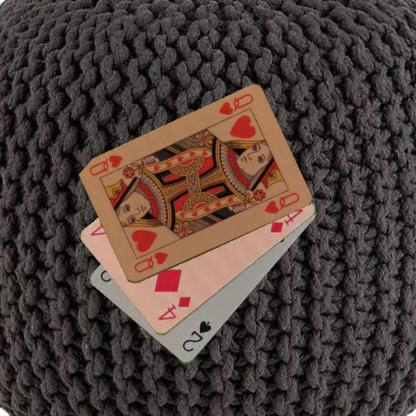2s: (179, 318, 213, 354)
4d: (156, 294, 192, 323)
Qh: (215, 90, 255, 116), (131, 249, 169, 274)
